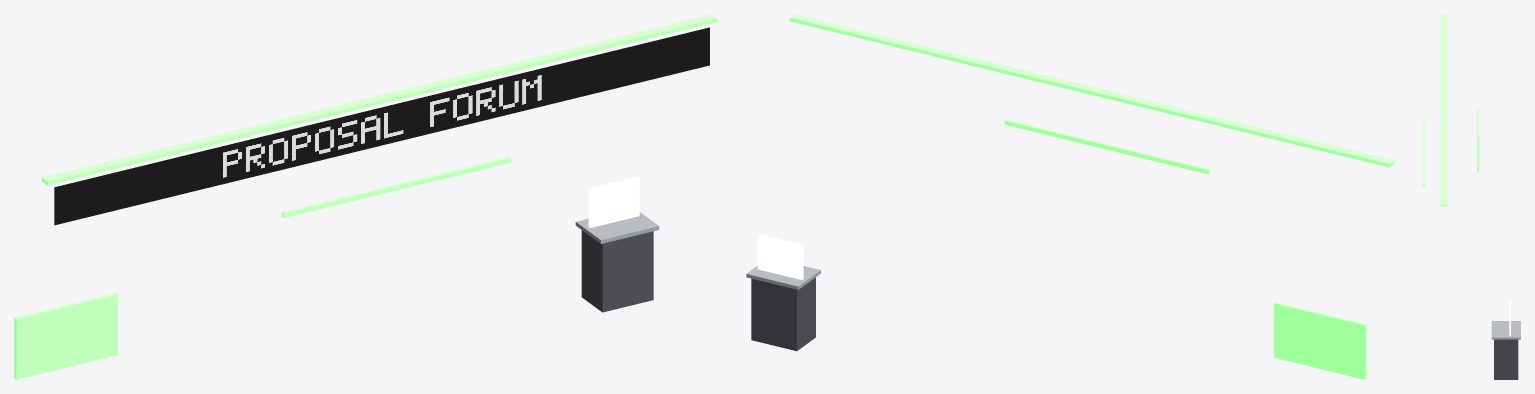
Rendered from room-public-health-dao-3.glb.
3 renders of one model, left to right at view 1: azimuth 30°, elevation 25°; view 2: azimuth 150°, elevation 25°; view 3: azimuth 270°, elevation 25°, orthographic. The views are drawn at different scales.
Parts seen in each view (by area): view 1: Public Health DAO Proposal Forum room; view 2: Public Health DAO Proposal Forum room; view 3: Public Health DAO Proposal Forum room.
Boxes of the visible parts, <box> form: Public Health DAO Proposal Forum room: <box>14,14,717,379</box>; Public Health DAO Proposal Forum room: <box>746,14,1394,379</box>; Public Health DAO Proposal Forum room: <box>1423,14,1520,379</box>.
Bounding box in the file's own units: 9.2 × 4.08 × 2.
5 materials, 1 textured.
